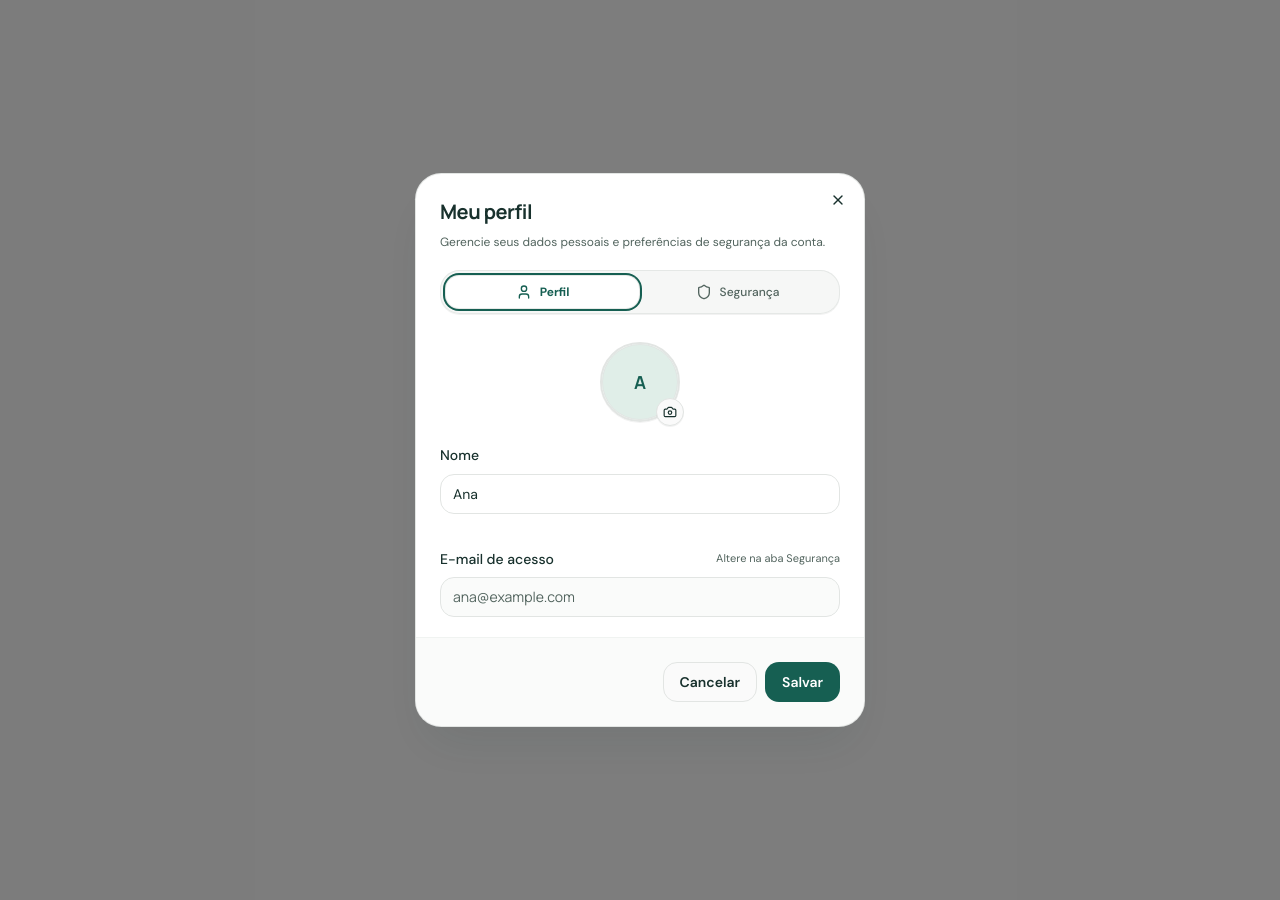
Test: AccountDialog › rejects an empty name using the submitted field value
The width and height of the screenshot is (1280, 900).
Step 1. Clear the field labelled "Nome" → (640,494), box [440,474,840,514]
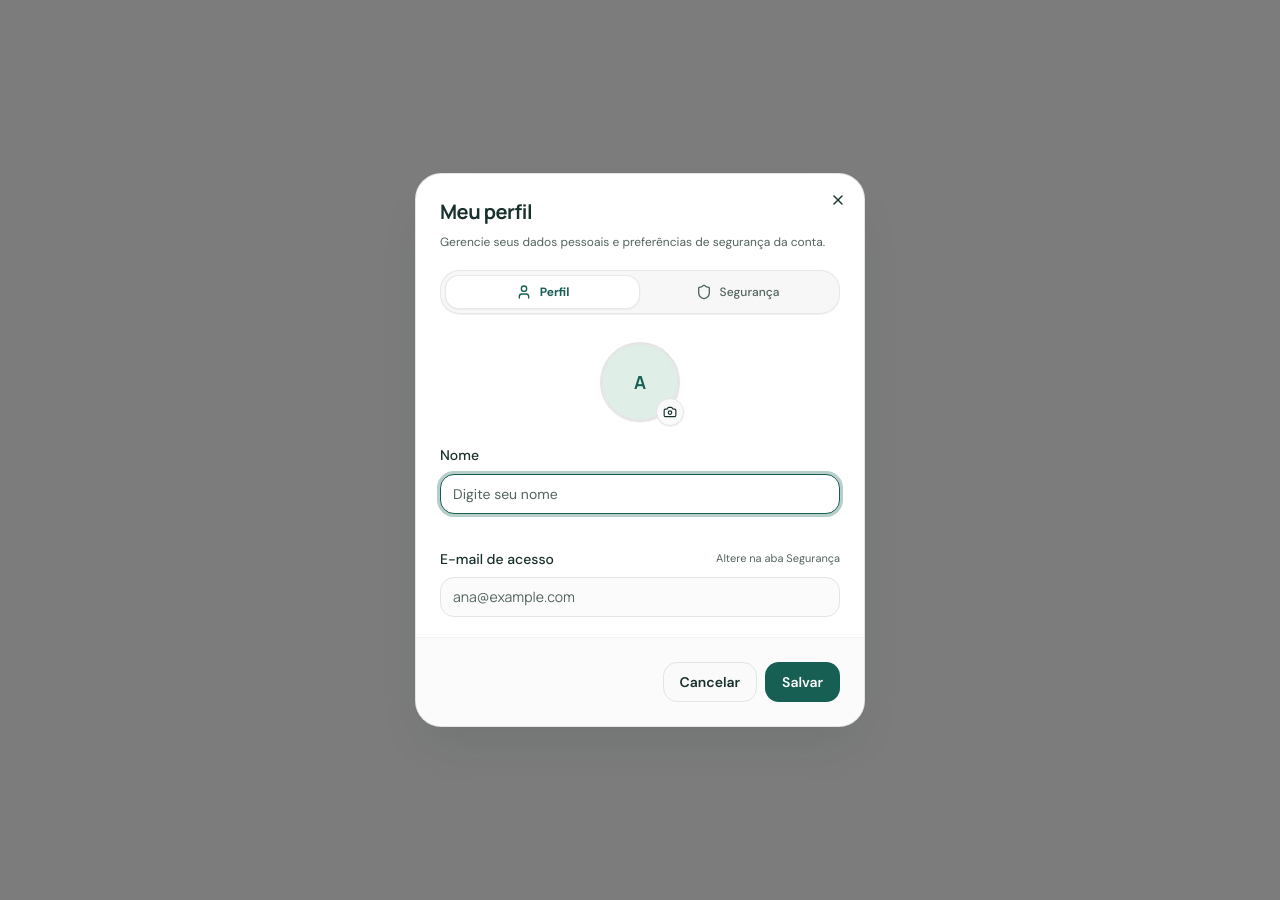
Step 2. Click the button "Salvar" → (803,682), box [765,662,840,702]
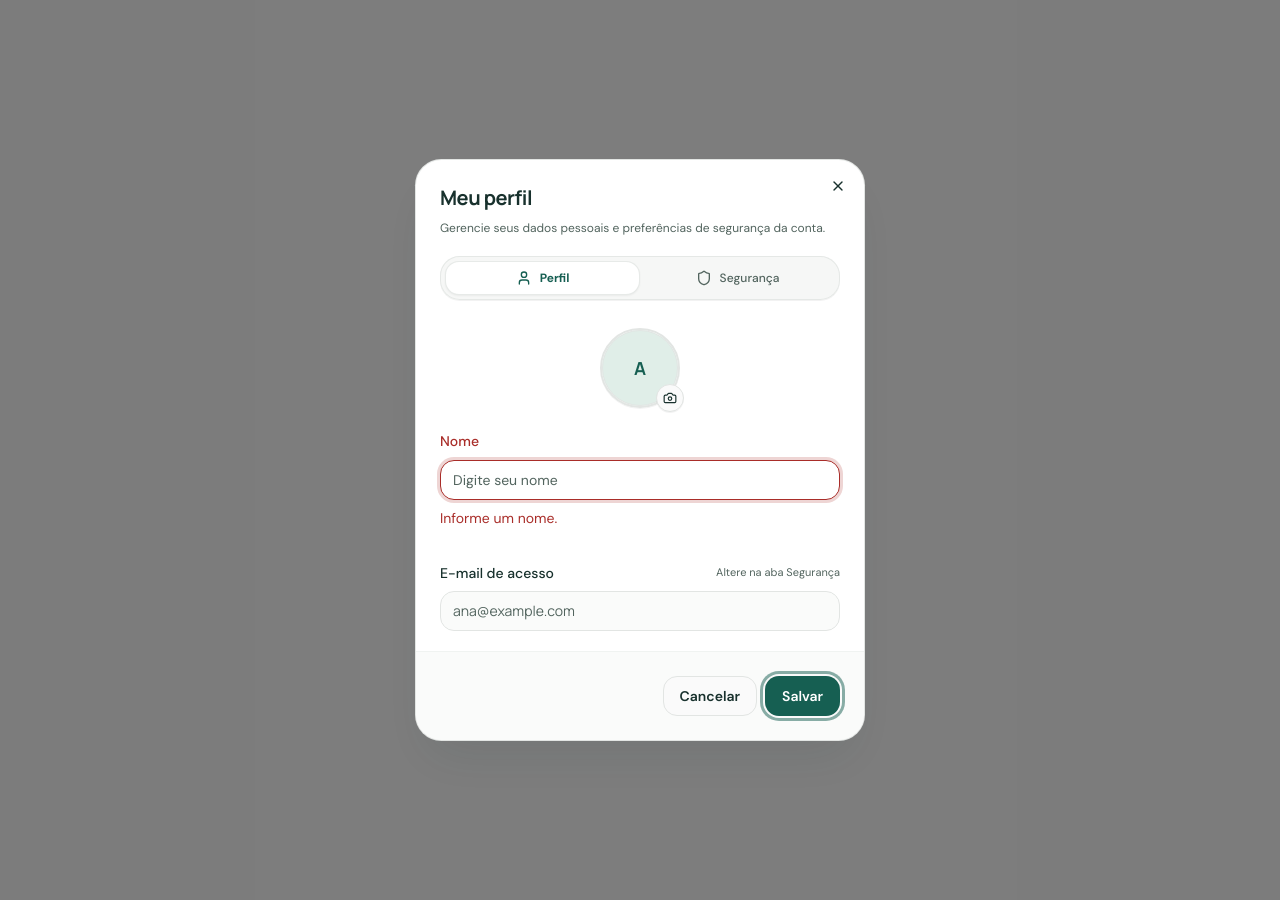
Result: the text "Informe um nome." is shown at [440,508,557,526]
